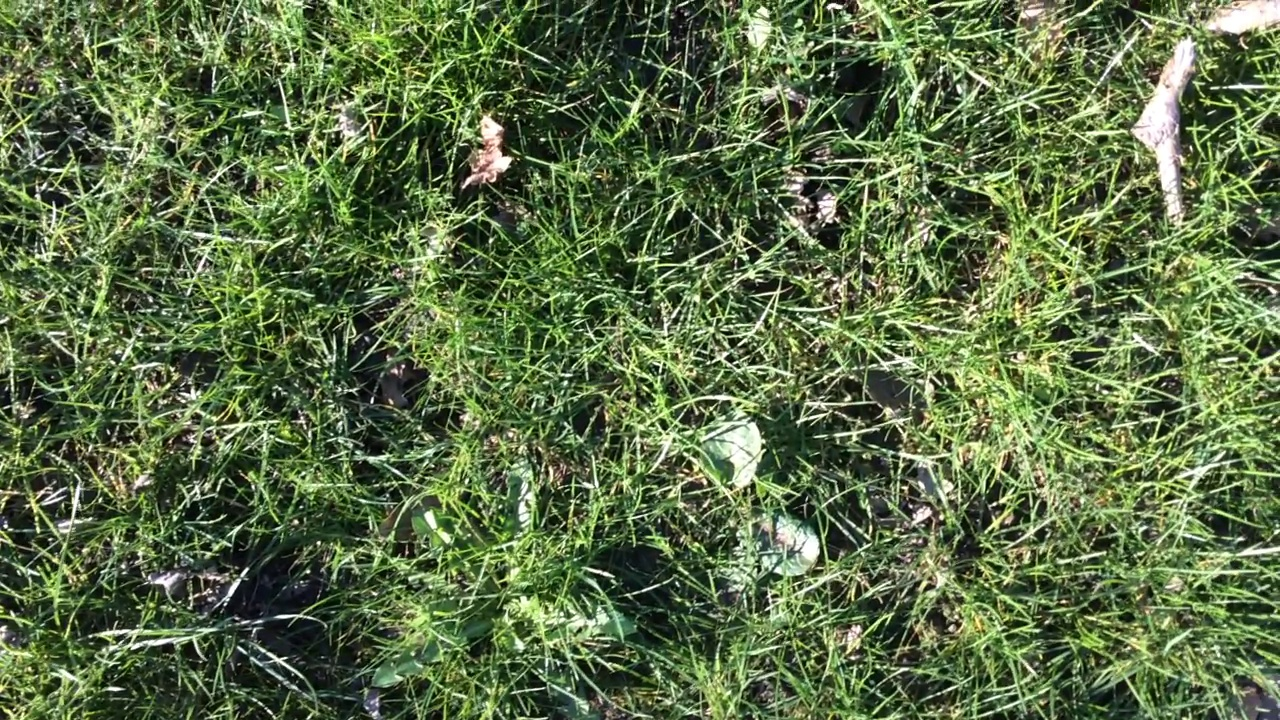rumex: (737, 516, 821, 579), (707, 417, 763, 491)
